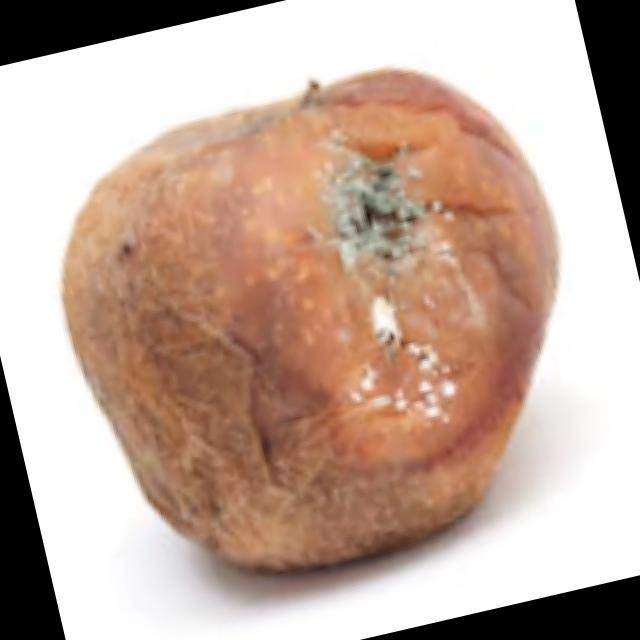rotten_apple: (20, 31, 618, 620)
